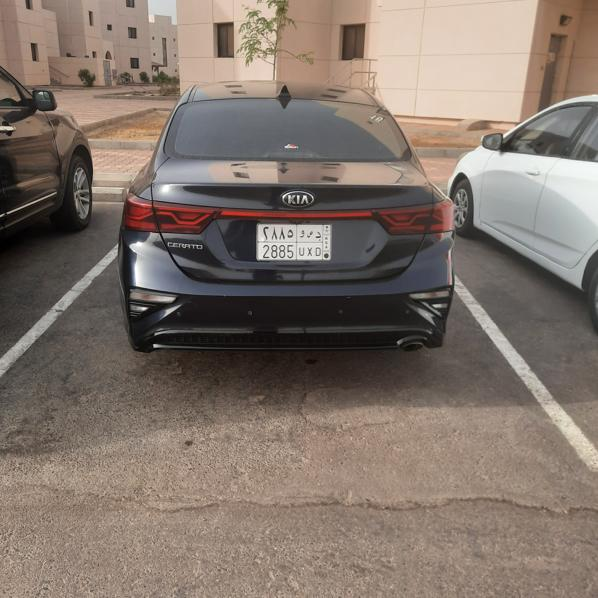numberplate: (257, 224, 332, 260)
